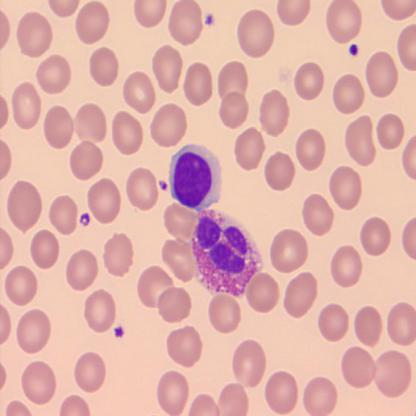Eosinophil: (192, 212, 266, 296)
